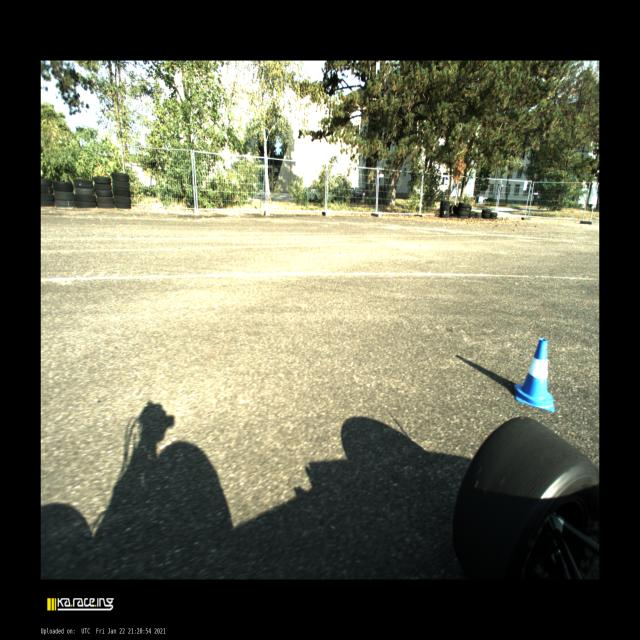blue_cone: (514, 338, 554, 412)
